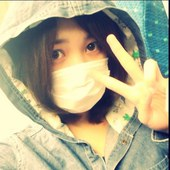face_mask: (44, 17, 111, 112)
